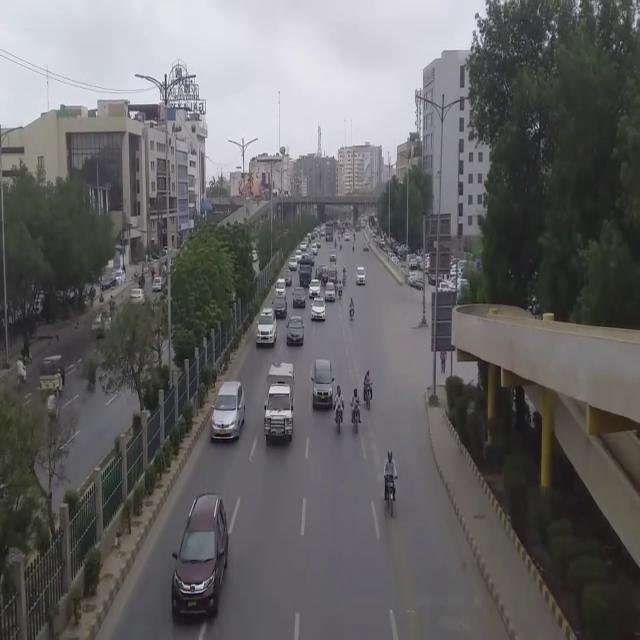car: (171, 493, 229, 620), (212, 371, 252, 446), (312, 353, 337, 422), (256, 307, 276, 346), (287, 316, 306, 348), (310, 301, 326, 321), (357, 266, 368, 286), (324, 289, 338, 303), (329, 253, 336, 264)
motorbike: (379, 444, 410, 526), (333, 389, 346, 441), (350, 385, 366, 426), (361, 366, 377, 406), (348, 294, 361, 337)
truck: (263, 362, 296, 454)
